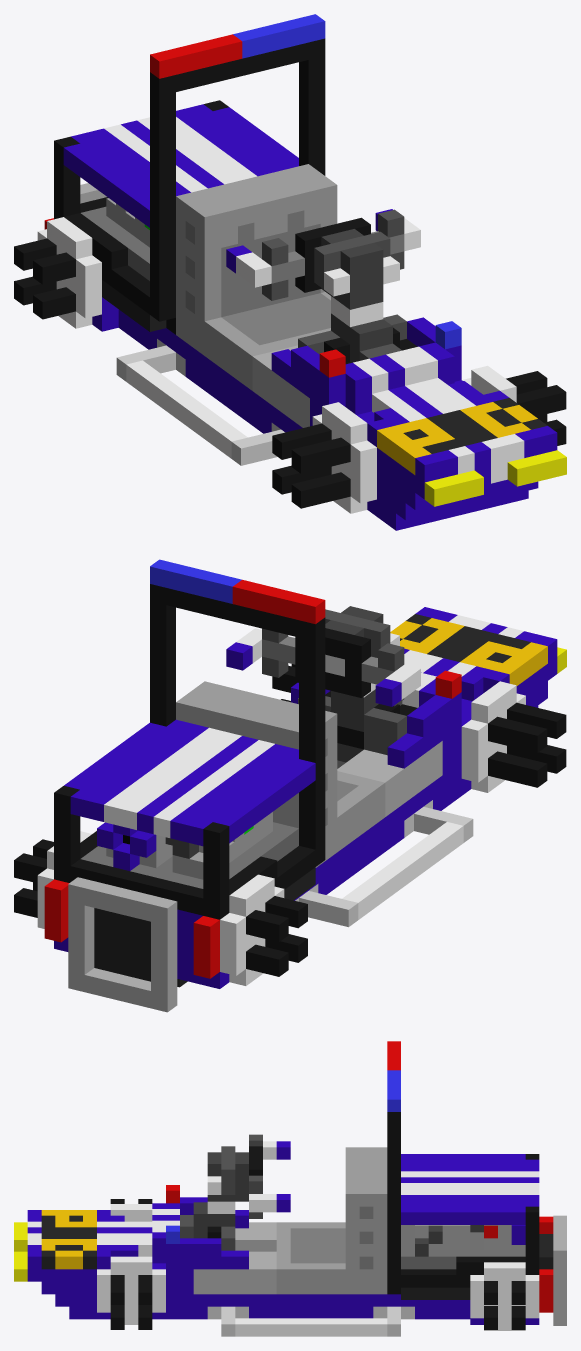
Rendered from Police_Kart_Chassis.obj.
3 views of the same model, one above another, from view 1: azimuth 30°, elevation 25°; view 2: azimuth 150°, elevation 25°; view 3: azimuth 270°, elevation 25° (orthographic). The views are drawn at different scales.
Size of the model in its own units: 1.6 by 1.9 by 4.
1 material, 1 textured.
